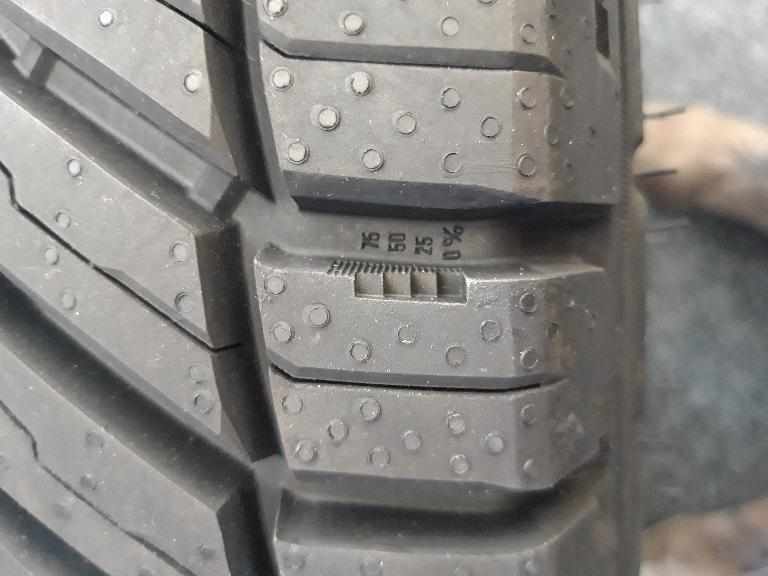temoin:100: (320, 252, 478, 317)
